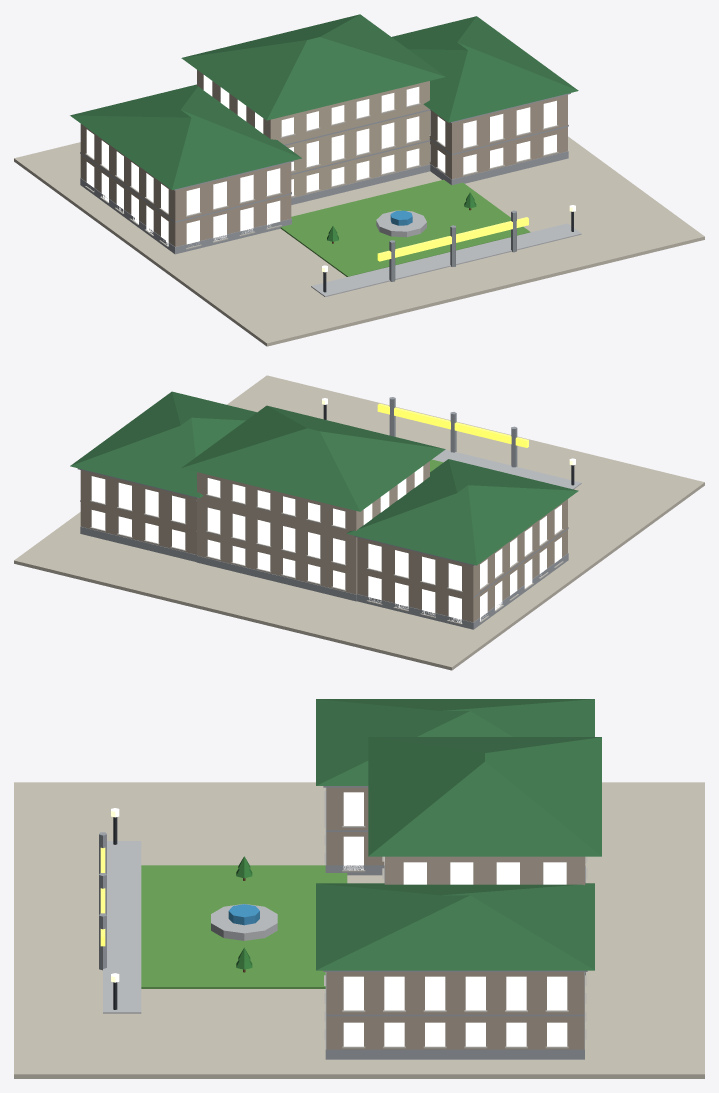
Rendered from landmark_palace.glb.
3 renders of one model, top to bottom at view 1: azimuth 30°, elevation 25°; view 2: azimuth 150°, elevation 25°; view 3: azimuth 270°, elevation 25°, orthographic. The views are drawn at different scales.
Parts seen in each view (by area): view 1: landmark_palace; view 2: landmark_palace; view 3: landmark_palace.
Part boxes in pixels (x1=…): landmark_palace: x1=14, y1=14, x2=704, y2=346; landmark_palace: x1=14, y1=375, x2=704, y2=670; landmark_palace: x1=14, y1=699, x2=704, y2=1078.
Size of the model in its own units: 3.96 by 1.11 by 3.96.
